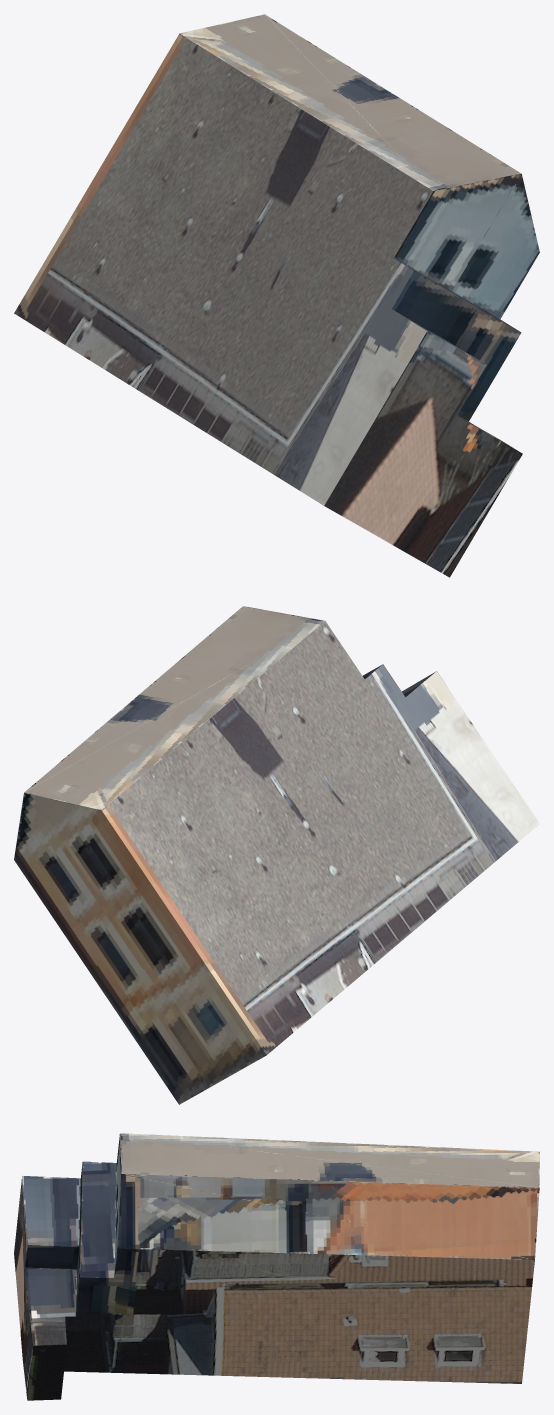
3 renders of one model, top to bottom at view 1: azimuth 30°, elevation 25°; view 2: azimuth 150°, elevation 25°; view 3: azimuth 270°, elevation 25°, orthographic. The views are drawn at different scales.
Visible parts, largest first — view 1: BAG_0599100000760476 (×4); view 2: BAG_0599100000760476 (×2); view 3: BAG_0599100000760476 (×6).
Part boxes in pixels (x1,y1,x2,y2): BAG_0599100000760476 (×4): (14,14,539,577); BAG_0599100000760476 (×2): (14,606,539,1104); BAG_0599100000760476 (×6): (14,1133,539,1400).
Bounding box in the file's own units: 9.82 × 11.18 × 18.81.
1 material, 1 textured.
